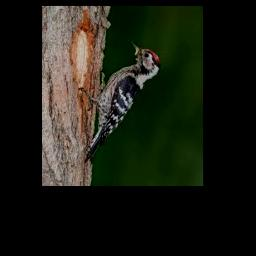Woodpecker: (79, 41, 161, 161)
